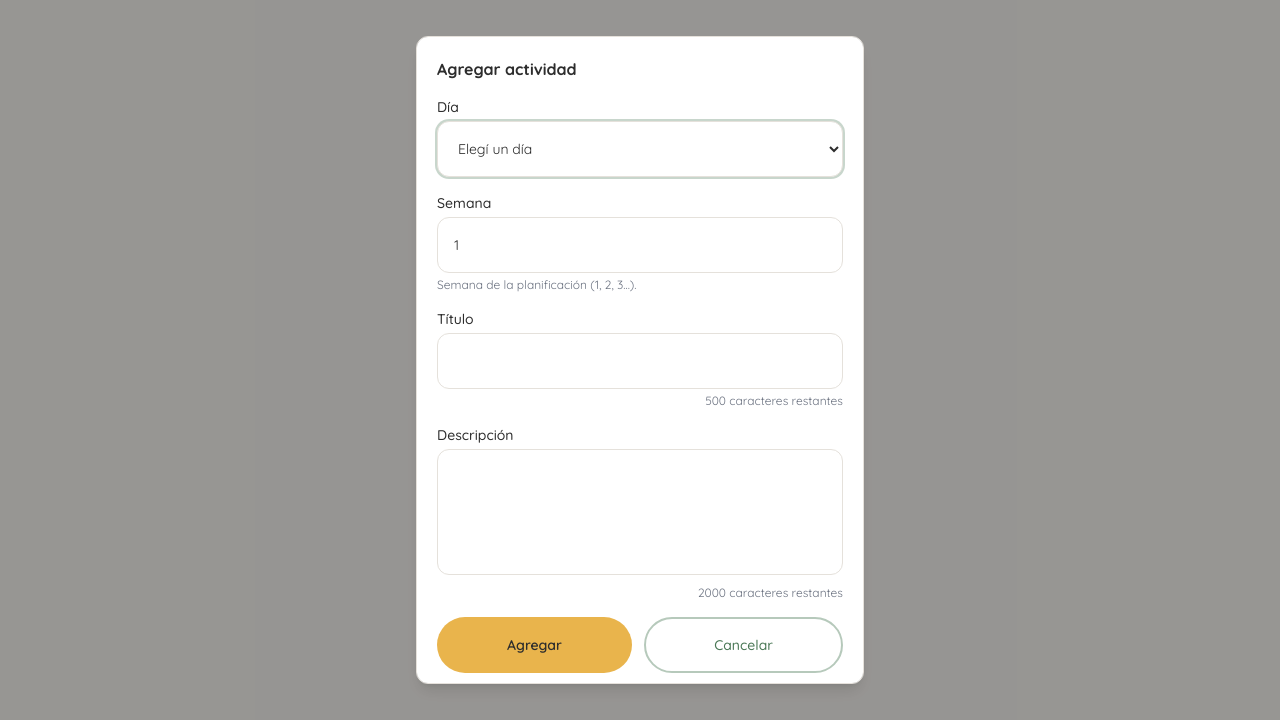
AgregarActividadForm › limpia el error del campo al corregirlo
The width and height of the screenshot is (1280, 720).
Click the button "Agregar" at (534, 645), box [437,617,632,673]
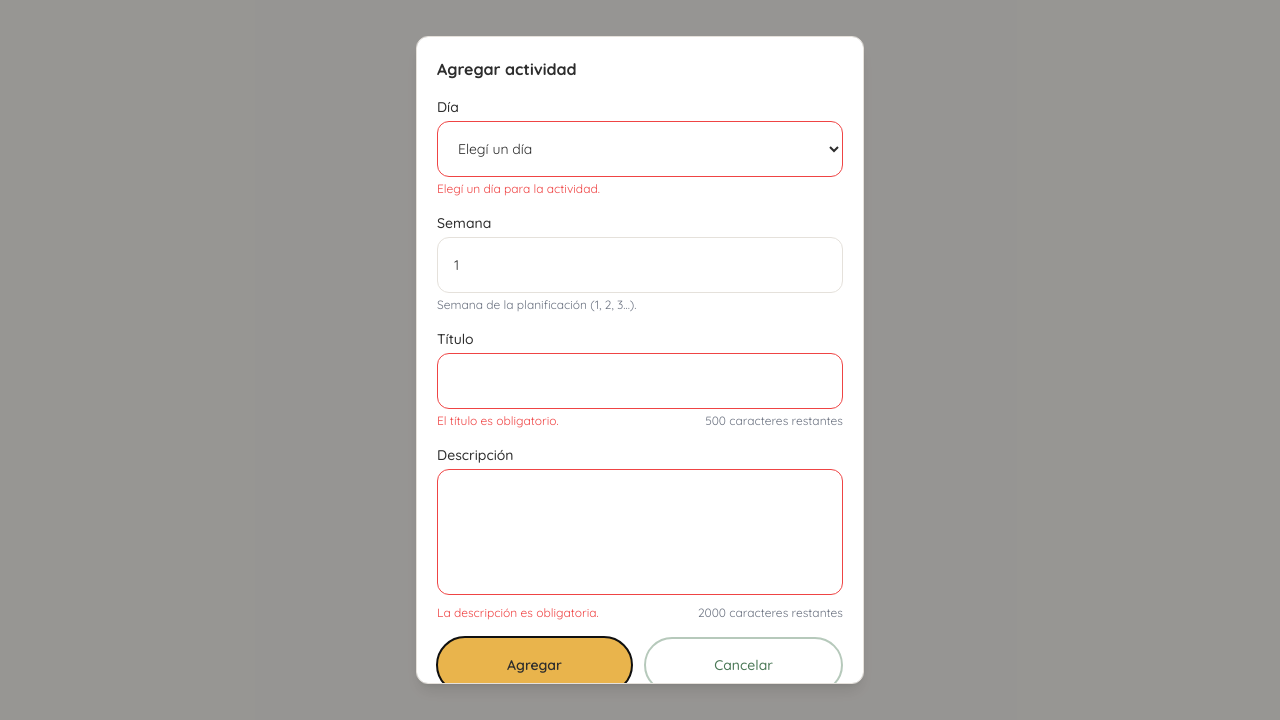
Result: the text "El título es obligatorio." is shown at [437,413,559,429]
Type "Kermesse" into the field labelled "Título" at (640, 381), box [437,353,843,409]
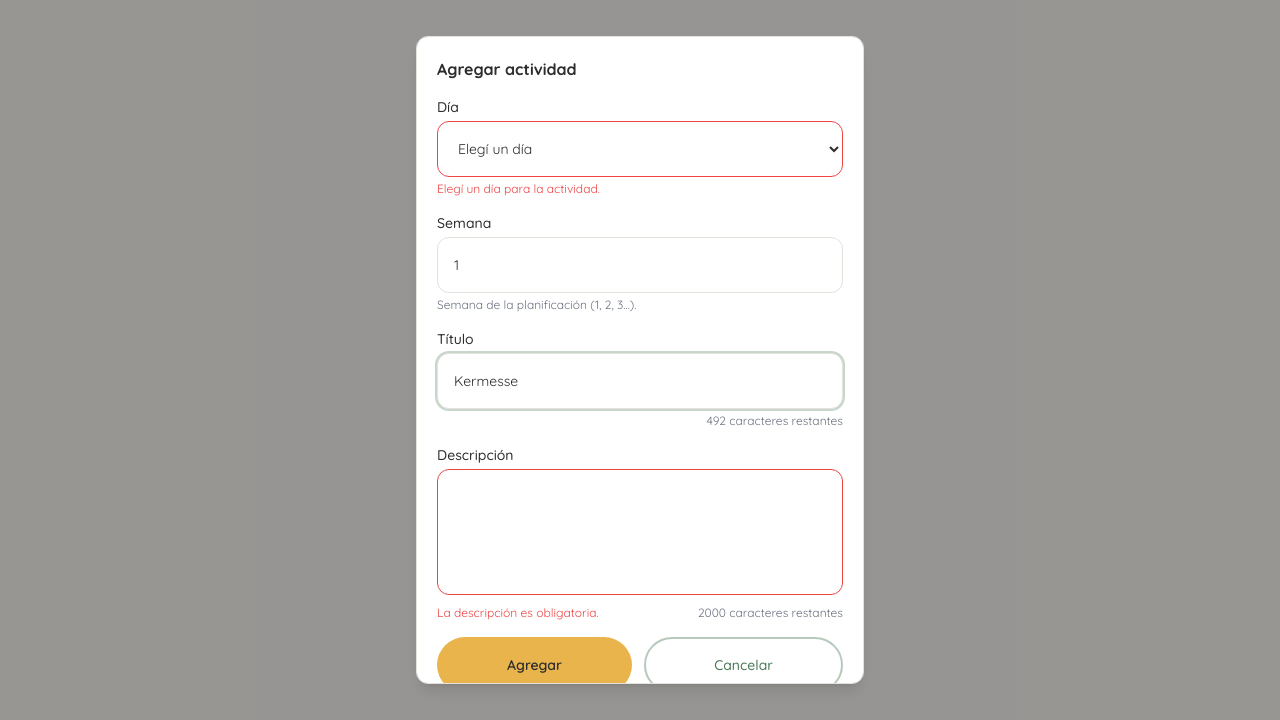
Result: the text "El título es obligatorio." is gone
